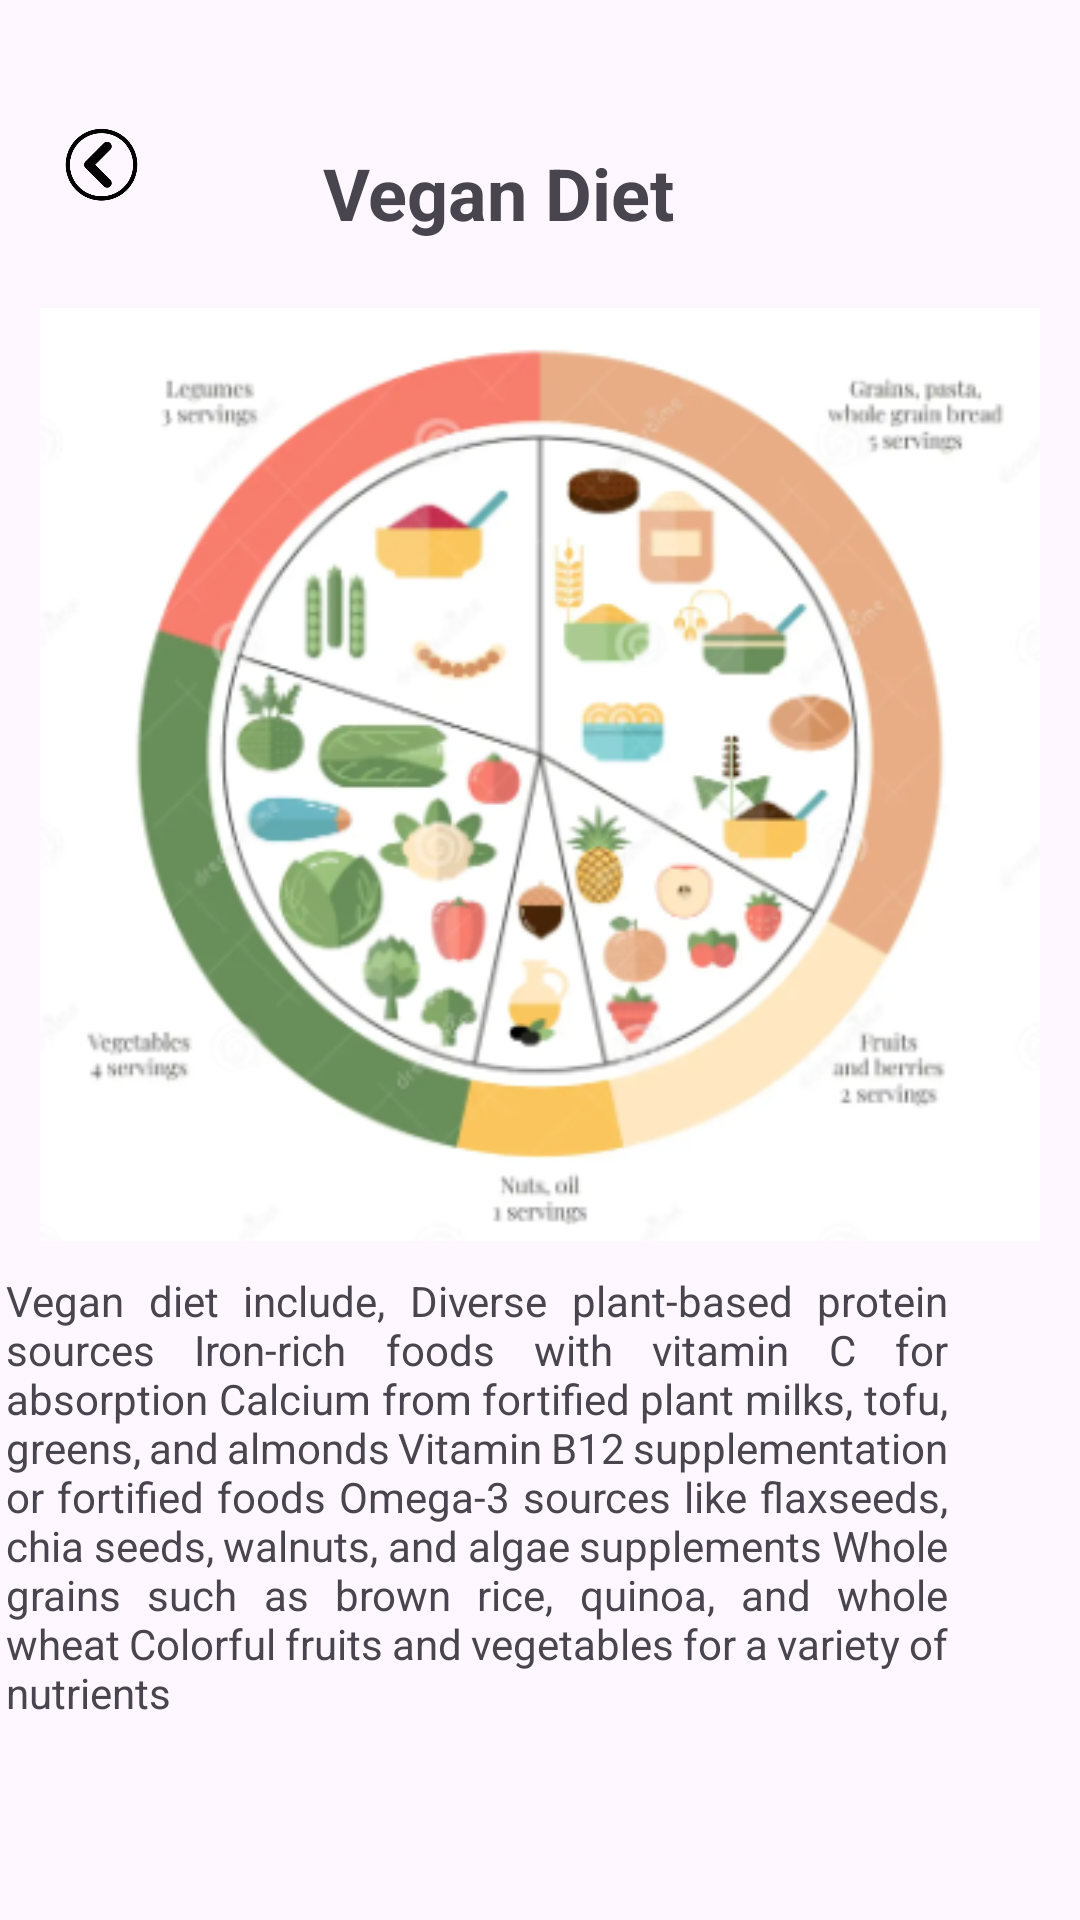

Icons on this 1080px×1920px Android screen, each with the point to tap as [x,y]:
backb: [101,165]
